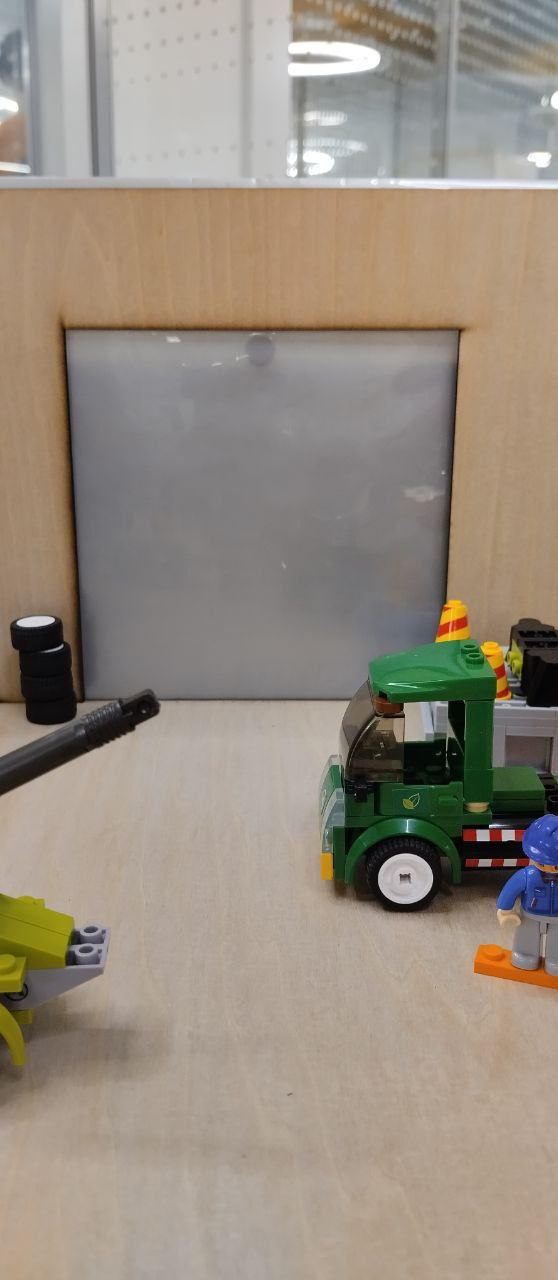Cone: (430, 599, 474, 666), (477, 641, 513, 704)
Object Black: (507, 618, 558, 706)
Truck: (318, 637, 557, 912)
